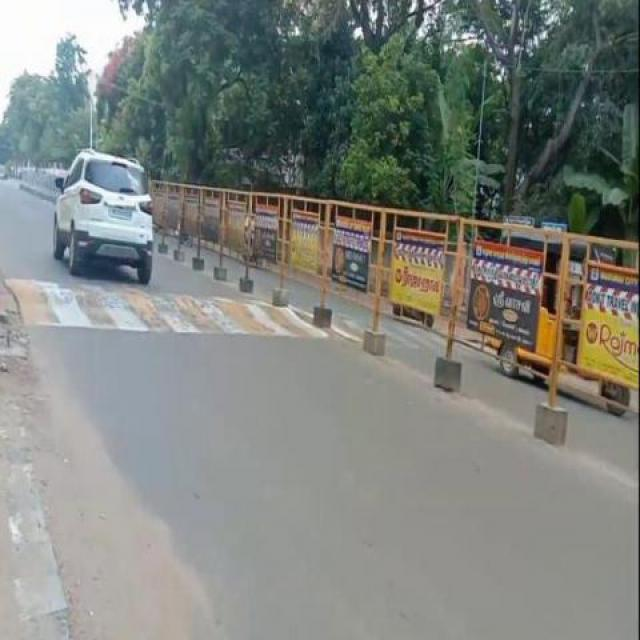Speed Bump: (2, 278, 240, 336), (386, 318, 434, 348), (239, 300, 274, 338), (274, 306, 314, 338), (332, 308, 364, 344)
